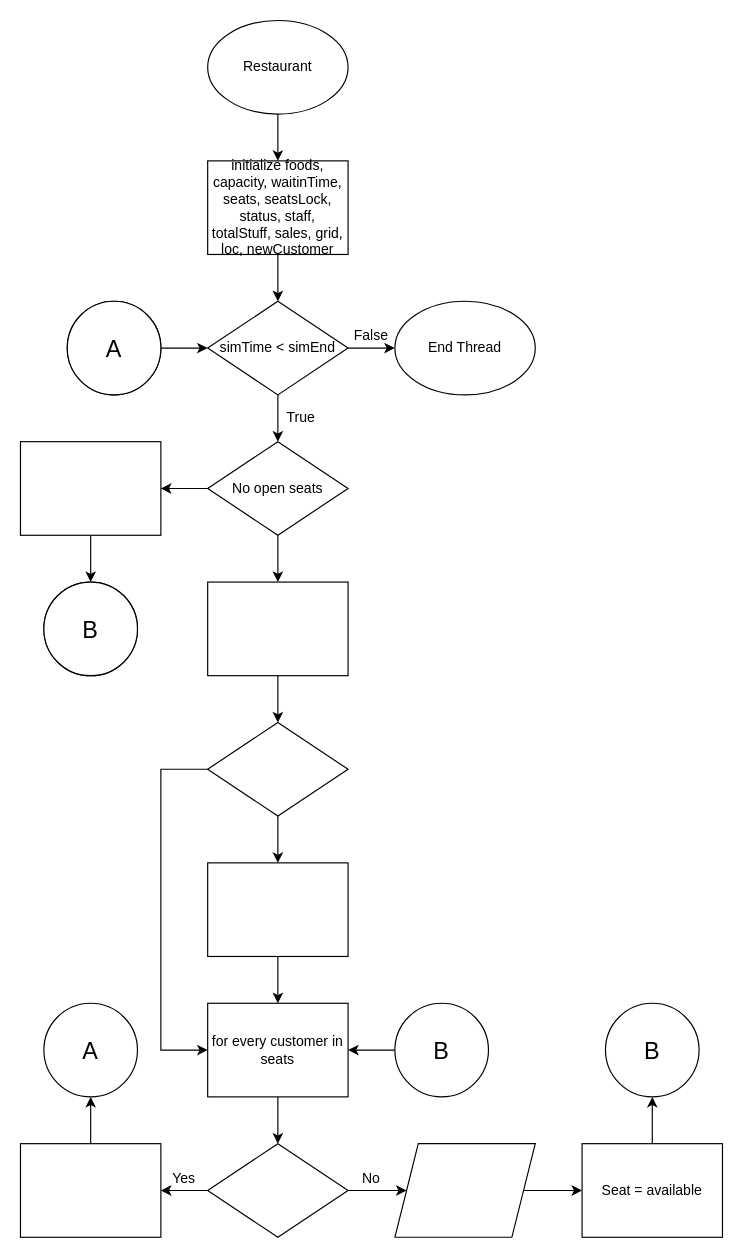
This 743x1258 diagram has some shape labels left out. Each missing label, with the centre of its shape:
Done going through all customer?: the point at 277,1190
Get and assign customer from Q to available seat: the point at 277,909
Got customer in Q: the point at 277,768
if Customer has done eating: the point at 464,1190
status = FULL: the point at 90,488
status = OPEN: the point at 277,628
time.sleep(1): the point at 90,1190
